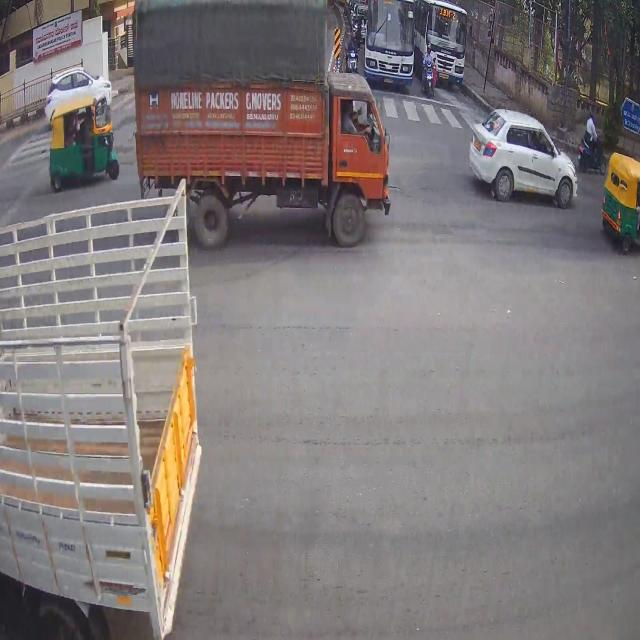Bus: (366, 0, 416, 80), (425, 0, 466, 86)
Car: (468, 102, 584, 219), (44, 67, 114, 108)
LCV: (0, 219, 204, 633)
Three-wheeler: (48, 99, 120, 193), (608, 158, 640, 238)
Truck: (132, 0, 392, 243)
Two-wheelers: (579, 96, 607, 169)
